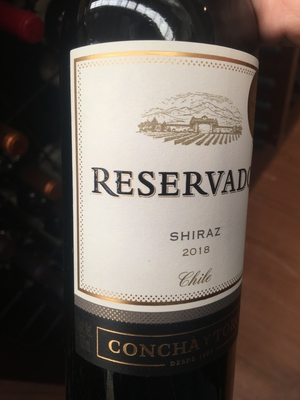reservado shiraz: (52, 4, 256, 400)
